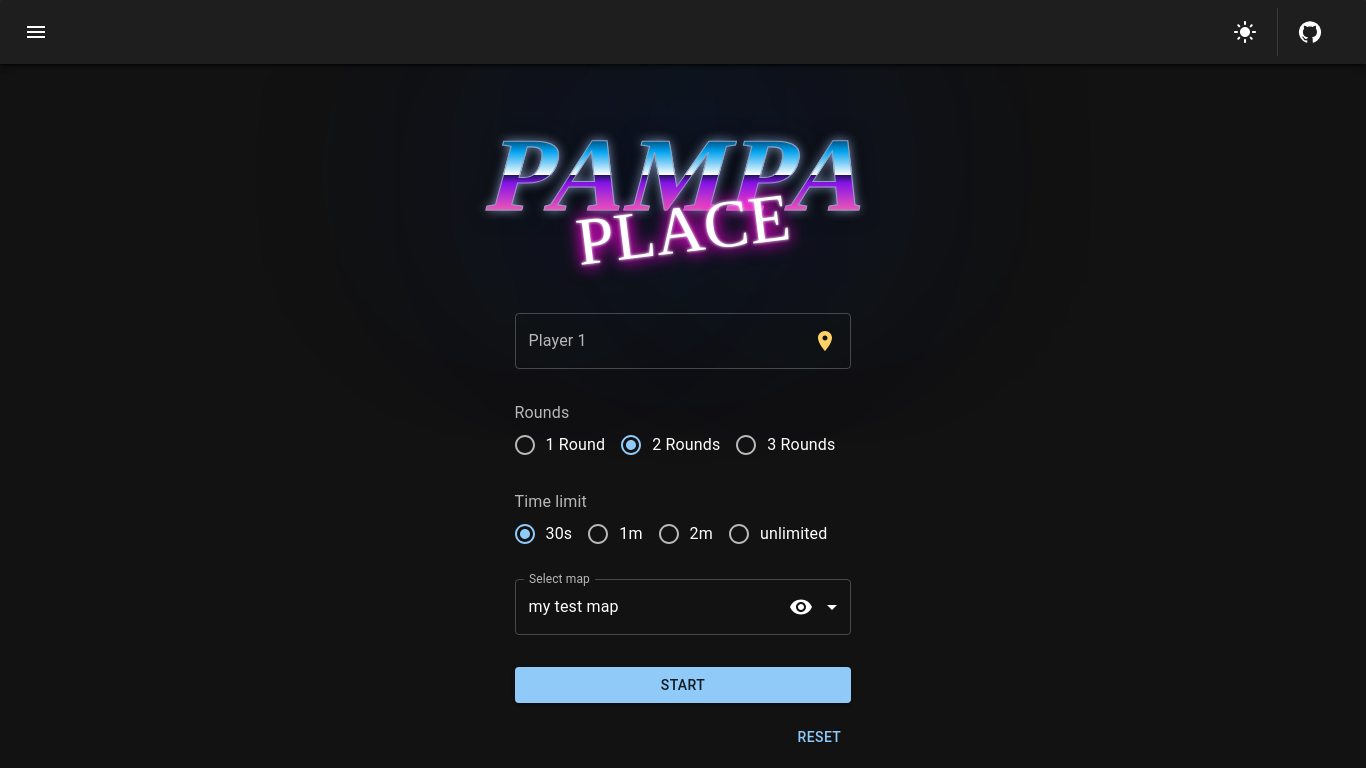
Integration, form submission › can reset fields
Type "PlayerName" into the field labelled "Player 1" at (660, 340), box x1=515 y1=312 x2=806 y2=368
(page scrolled)
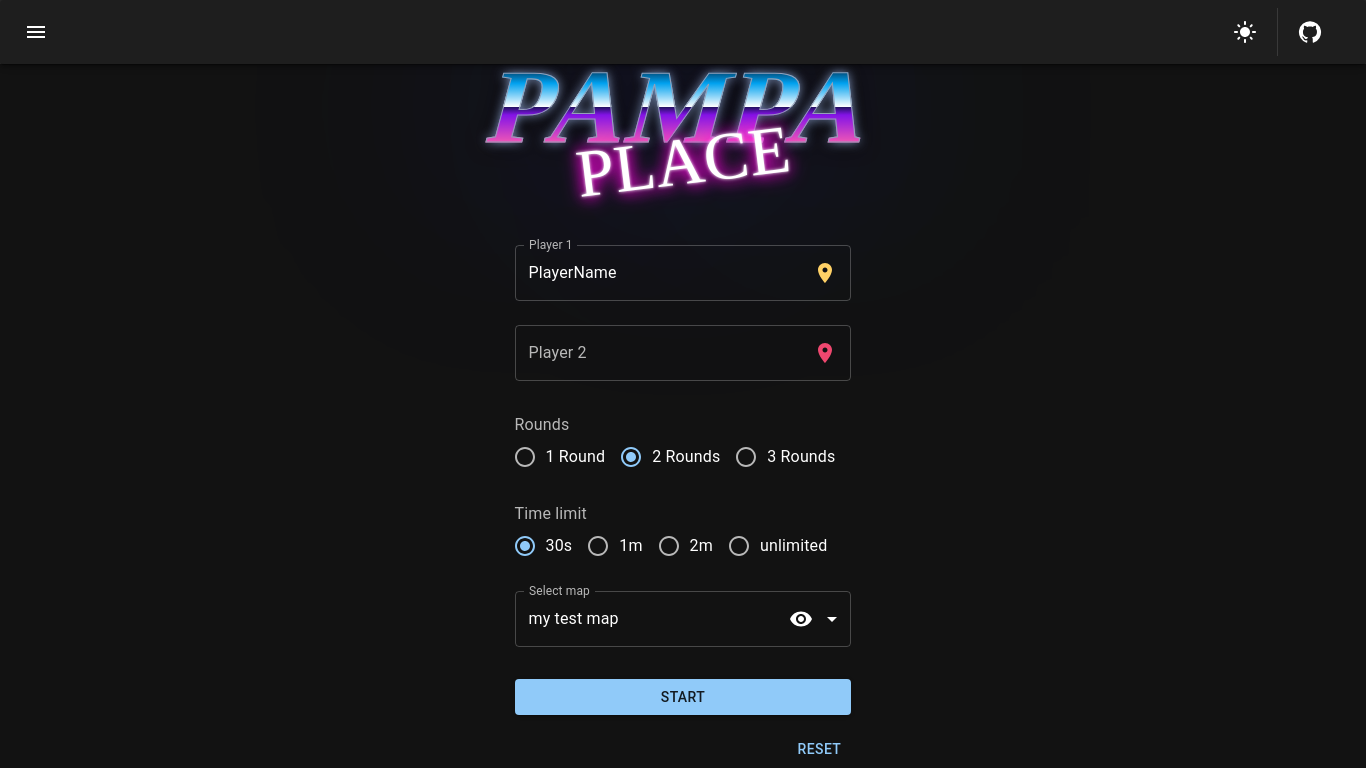
Click the button "Reset" at (819, 749), box x1=787 y1=731 x2=851 y2=767
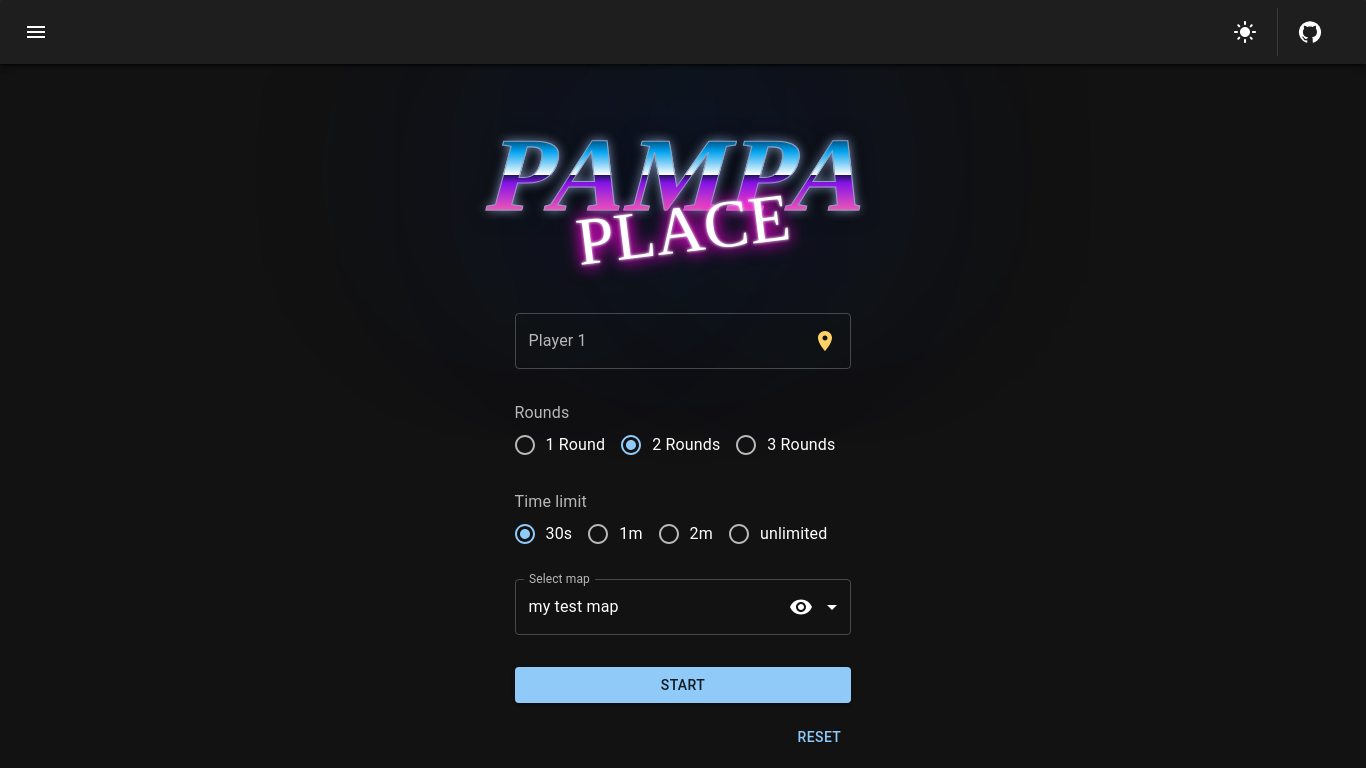
Now the field labelled "Player 1" is empty, box x1=515 y1=312 x2=806 y2=368
